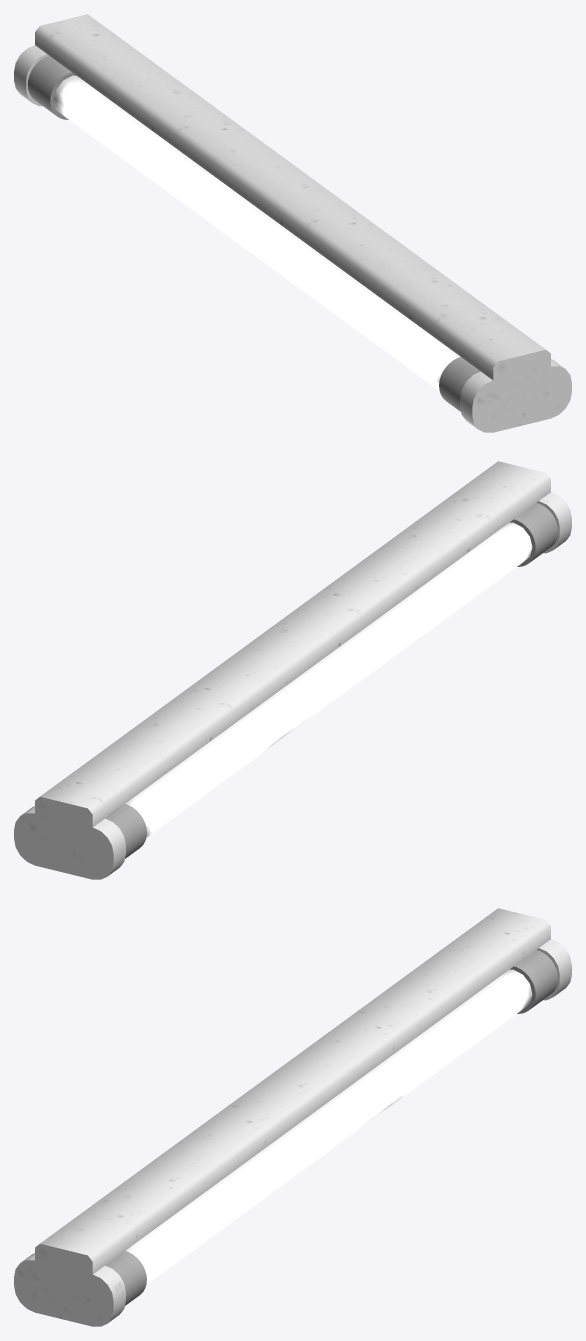
File: SM_Lamp3.fbx
3 renders of one model, top to bottom at view 1: azimuth 30°, elevation 25°; view 2: azimuth 150°, elevation 25°; view 3: azimuth 330°, elevation 25°, orthographic.
Visible parts, largest first — view 1: SM_Lamp3_LOD0; view 2: SM_Lamp3_LOD0; view 3: SM_Lamp3_LOD0.
Boxes of the visible parts, bbox=[...] form: SM_Lamp3_LOD0: bbox=[14, 14, 571, 432]; SM_Lamp3_LOD0: bbox=[14, 461, 571, 879]; SM_Lamp3_LOD0: bbox=[14, 908, 571, 1326].
Bounding box in the file's own units: 19.9 × 159 × 13.38.
